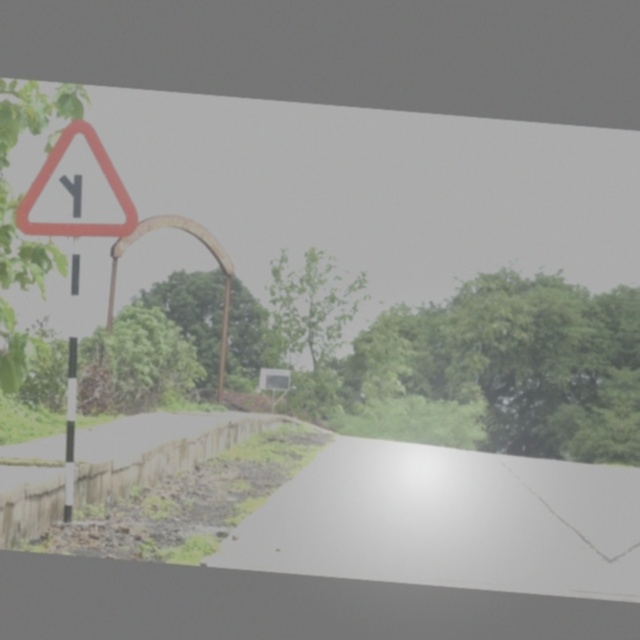Y_Intersection: (16, 114, 149, 245)
